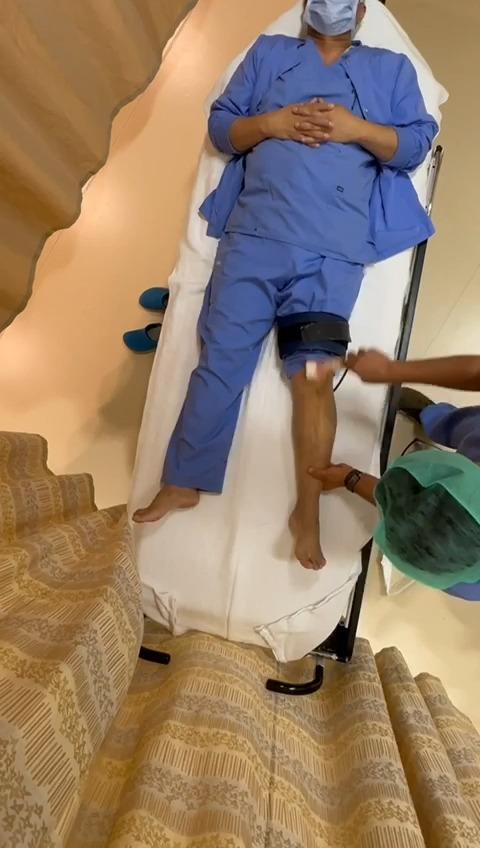bed: (100, 0, 449, 659)
patient: (132, 0, 437, 570)
prepstick: (305, 354, 344, 380)
tourniquet: (278, 313, 348, 358)
